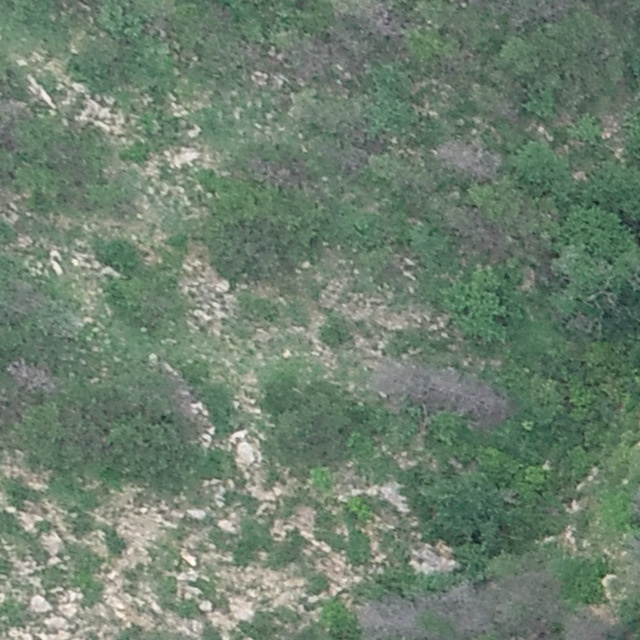unhealthy: (495, 570, 564, 640), (439, 369, 512, 431), (445, 205, 507, 262), (365, 354, 425, 409), (434, 582, 494, 637), (351, 593, 421, 638), (434, 136, 504, 180), (242, 155, 302, 192), (5, 358, 57, 396), (355, 2, 404, 38), (300, 38, 336, 82), (561, 611, 614, 640)
